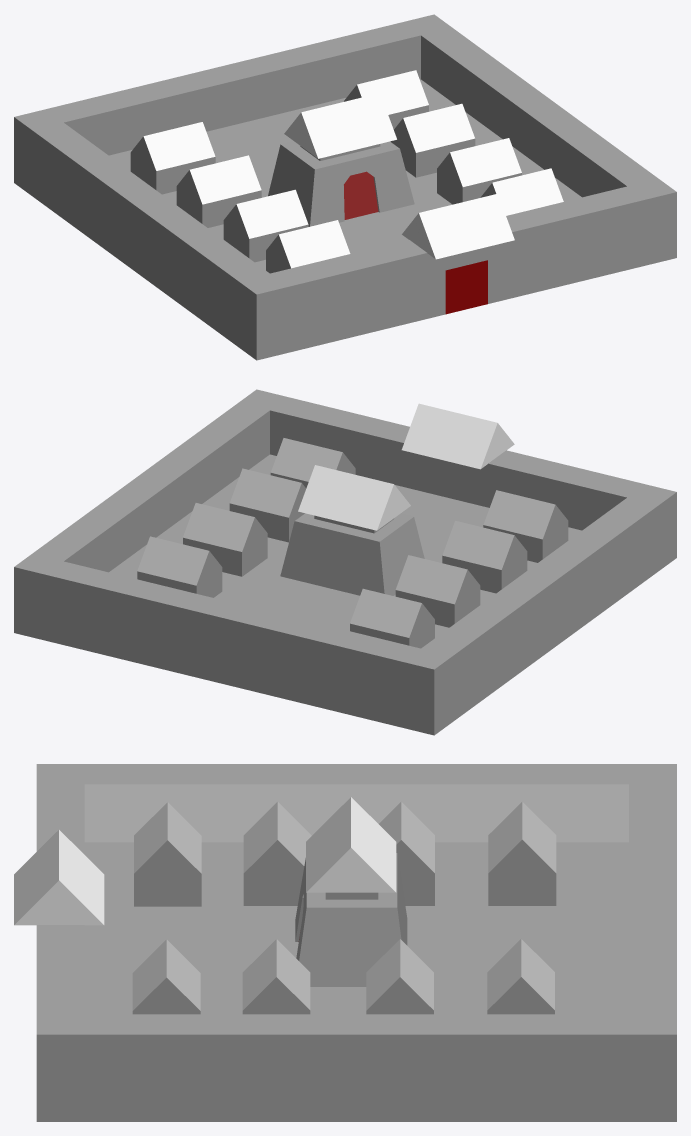
File: citynew.fbx
The picture shows the model from 3 angles, top to bottom: view 1: azimuth 30°, elevation 25°; view 2: azimuth 150°, elevation 25°; view 3: azimuth 270°, elevation 25°; orthographic projection. The views are drawn at different scales.
Visible parts, largest first — view 1: Model, Group1, Group2, Group6, Group4, Group5, Group8, Group7, Group10, Group3, Group9; view 2: Model, Group1, Group2, Group5, Group8, Group6, Group10, Group3, Group7, Group4, Group9; view 3: Model, Group1, Group2, Group4, Group10, Group8, Group7, Group3, Group9, Group5, Group6.
Part boxes in pixels (x1,y1,x2,y2): Model: (14, 14, 676, 360); Group1: (284, 93, 396, 158); Group2: (402, 193, 514, 259); Group6: (176, 155, 261, 227); Group4: (130, 122, 215, 194); Group5: (390, 103, 475, 177); Group8: (223, 189, 308, 262); Group7: (437, 138, 521, 204); Group10: (266, 220, 350, 273); Group3: (344, 70, 428, 129); Group9: (480, 168, 563, 215); Model: (14, 389, 676, 735); Group1: (298, 465, 410, 530); Group2: (401, 403, 514, 469); Group5: (183, 503, 267, 576); Group8: (442, 521, 527, 593); Group6: (395, 555, 480, 627); Group10: (483, 490, 568, 562); Group3: (137, 536, 222, 597); Group7: (229, 468, 306, 542); Group4: (350, 588, 434, 648); Group9: (270, 438, 355, 488); Model: (36, 764, 676, 1121); Group1: (306, 797, 396, 892); Group2: (14, 830, 104, 925); Group4: (488, 801, 556, 905); Group10: (134, 802, 201, 906); Group8: (243, 801, 311, 905); Group7: (242, 939, 310, 1014); Group3: (487, 939, 554, 1014); Group9: (132, 939, 200, 1014); Group5: (366, 939, 433, 1014); Group6: (379, 801, 434, 905).
Bounding box in the file's own units: 40 × 11.01 × 41.41.
